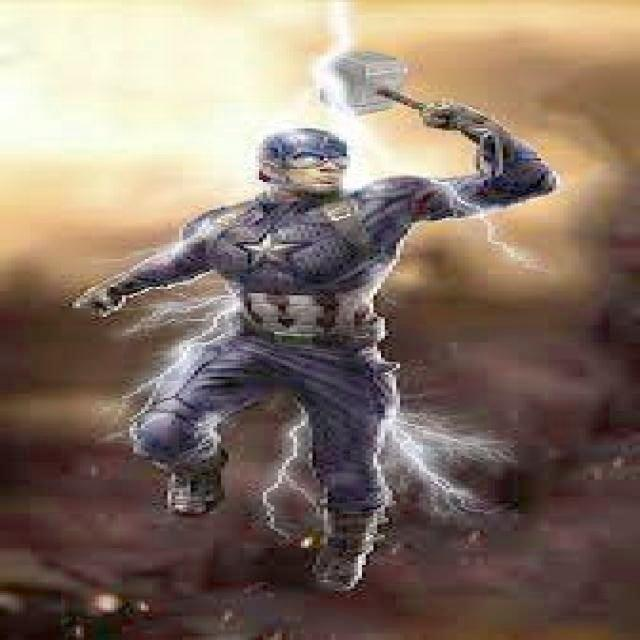hammer: (307, 35, 512, 149)
